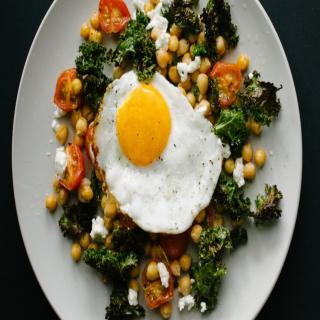tomato: (141, 258, 176, 309), (208, 57, 244, 106), (52, 69, 87, 110), (59, 140, 83, 190), (96, 0, 131, 33)
